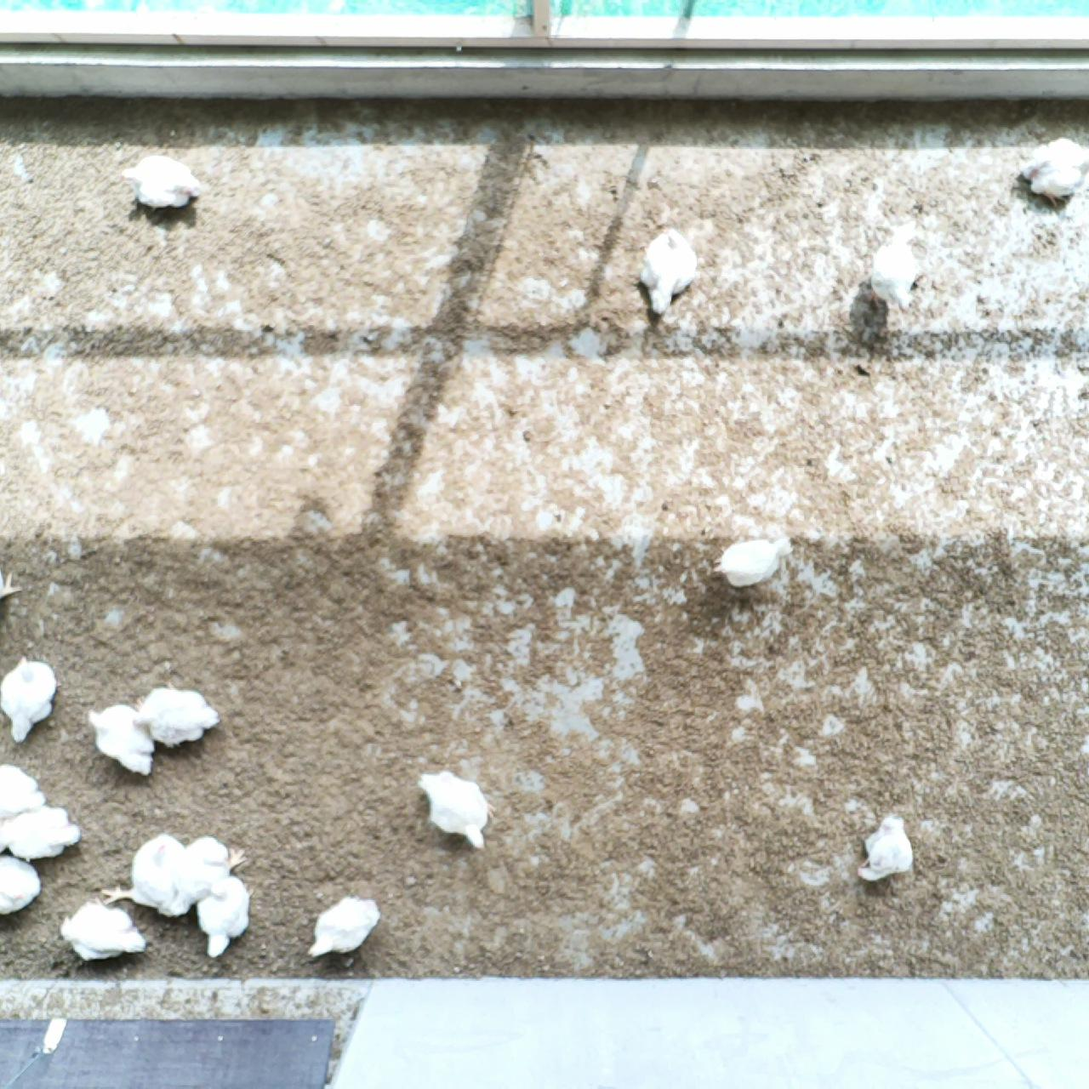chicken: (98, 826, 185, 919), (130, 667, 224, 751), (413, 767, 496, 856), (170, 834, 254, 921), (635, 219, 704, 318), (1008, 130, 1089, 212), (84, 698, 163, 781), (58, 896, 149, 964), (0, 651, 63, 746), (303, 891, 381, 965), (119, 150, 205, 215), (197, 876, 258, 961), (0, 801, 84, 862), (713, 535, 797, 590), (855, 811, 917, 884), (0, 759, 50, 825), (0, 854, 45, 920)
